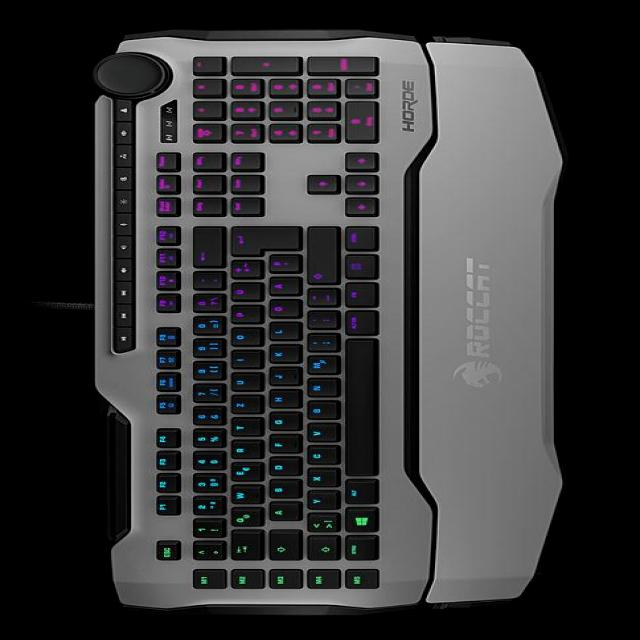0: (188, 317, 221, 337)
1: (188, 520, 221, 540)
2: (188, 496, 222, 517)
3: (188, 474, 222, 495)
4: (188, 452, 221, 472)
5: (188, 430, 222, 450)
6: (188, 407, 222, 427)
7: (188, 384, 222, 404)
8: (188, 362, 222, 382)
9: (188, 339, 221, 359)
a: (264, 503, 298, 523)
accent: (188, 273, 220, 291)
ae: (264, 278, 298, 298)
alt-left: (339, 481, 375, 507)
altgr-right: (340, 312, 374, 338)
b: (302, 402, 336, 422)
c: (302, 447, 336, 467)
caret: (188, 542, 221, 563)
comma: (302, 334, 336, 354)
d: (264, 458, 298, 478)
del: (188, 228, 220, 270)
e: (225, 463, 259, 483)
enter: (225, 228, 297, 258)
f: (264, 436, 298, 456)
g: (264, 413, 298, 433)
h: (264, 390, 298, 410)
hash: (263, 255, 296, 275)
i: (225, 352, 258, 370)
j: (263, 369, 296, 387)
k: (264, 345, 298, 365)
keyboard: (95, 43, 415, 597)
l: (263, 324, 296, 342)
less: (302, 514, 336, 534)
m: (302, 356, 336, 376)
minus: (302, 290, 336, 310)
n: (302, 379, 336, 399)
o: (225, 329, 258, 349)
oe: (264, 300, 298, 320)
p: (225, 306, 259, 326)
plus: (225, 261, 259, 281)
point: (302, 311, 335, 331)
q: (225, 508, 259, 528)
r: (225, 441, 259, 461)
s: (264, 481, 298, 501)
shift-left: (303, 537, 337, 563)
shift-lock: (265, 531, 298, 563)
shift-right: (302, 228, 335, 286)
space: (339, 341, 373, 479)
ss: (188, 294, 221, 314)
strg-left: (340, 535, 374, 563)
strg-right: (340, 227, 374, 253)
t: (225, 418, 259, 438)
tab: (226, 532, 259, 563)
u: (225, 373, 259, 393)
ue: (225, 283, 259, 303)
v: (302, 424, 336, 444)
w: (225, 486, 259, 506)
x: (302, 469, 336, 489)
y: (302, 492, 336, 512)
z: (225, 396, 259, 416)
